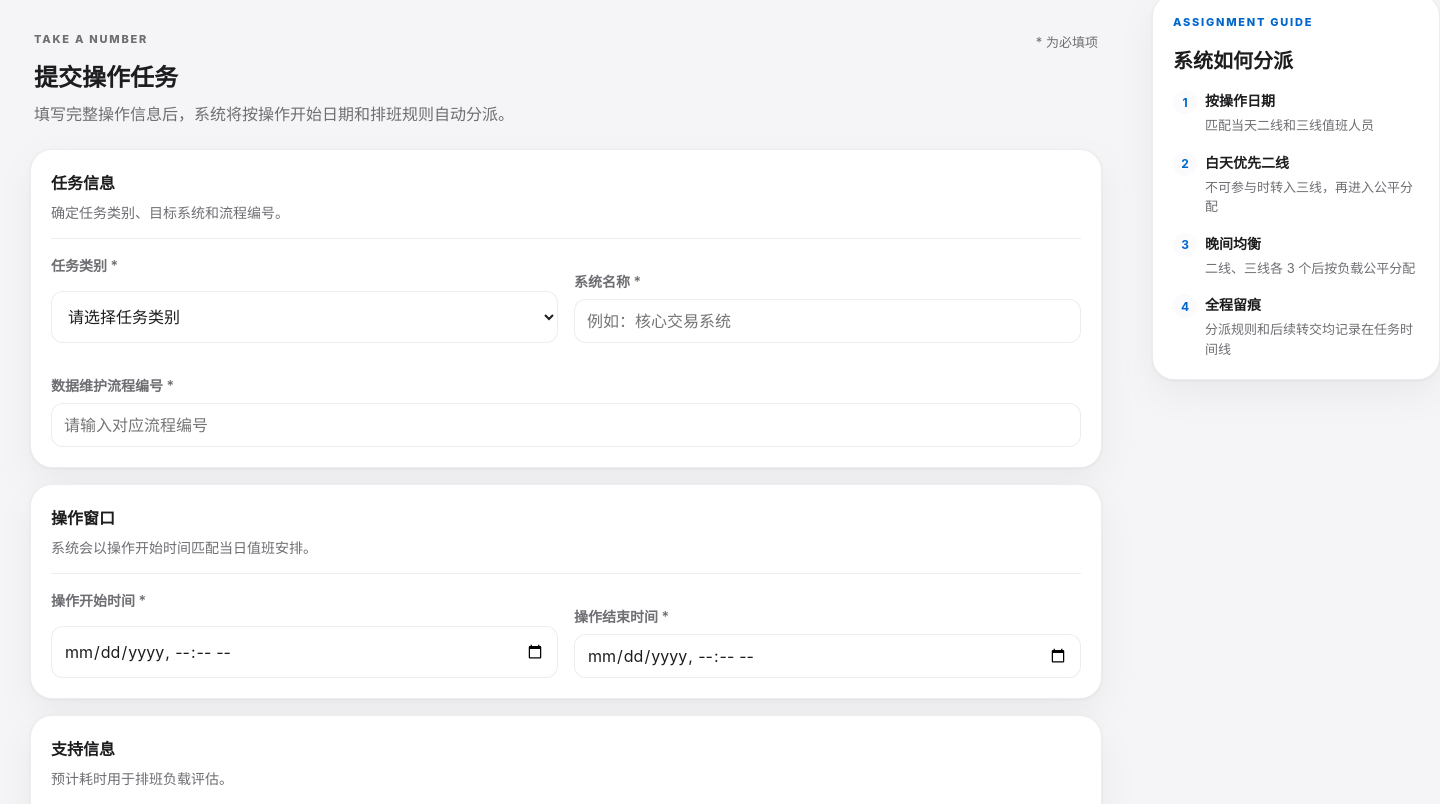
Test: TaskCreatePage › requires a positive estimate
This screenshot has width=1440, height=804.
Step 1. Select "数据维护" in the dropdown with test id "category" → (304, 317), box top-left (51, 291), bottom-right (558, 343)
Step 2. Type "数据平台" into the field with test id "system-name" → (828, 321), box top-left (574, 299), bottom-right (1081, 343)
(page scrolled)
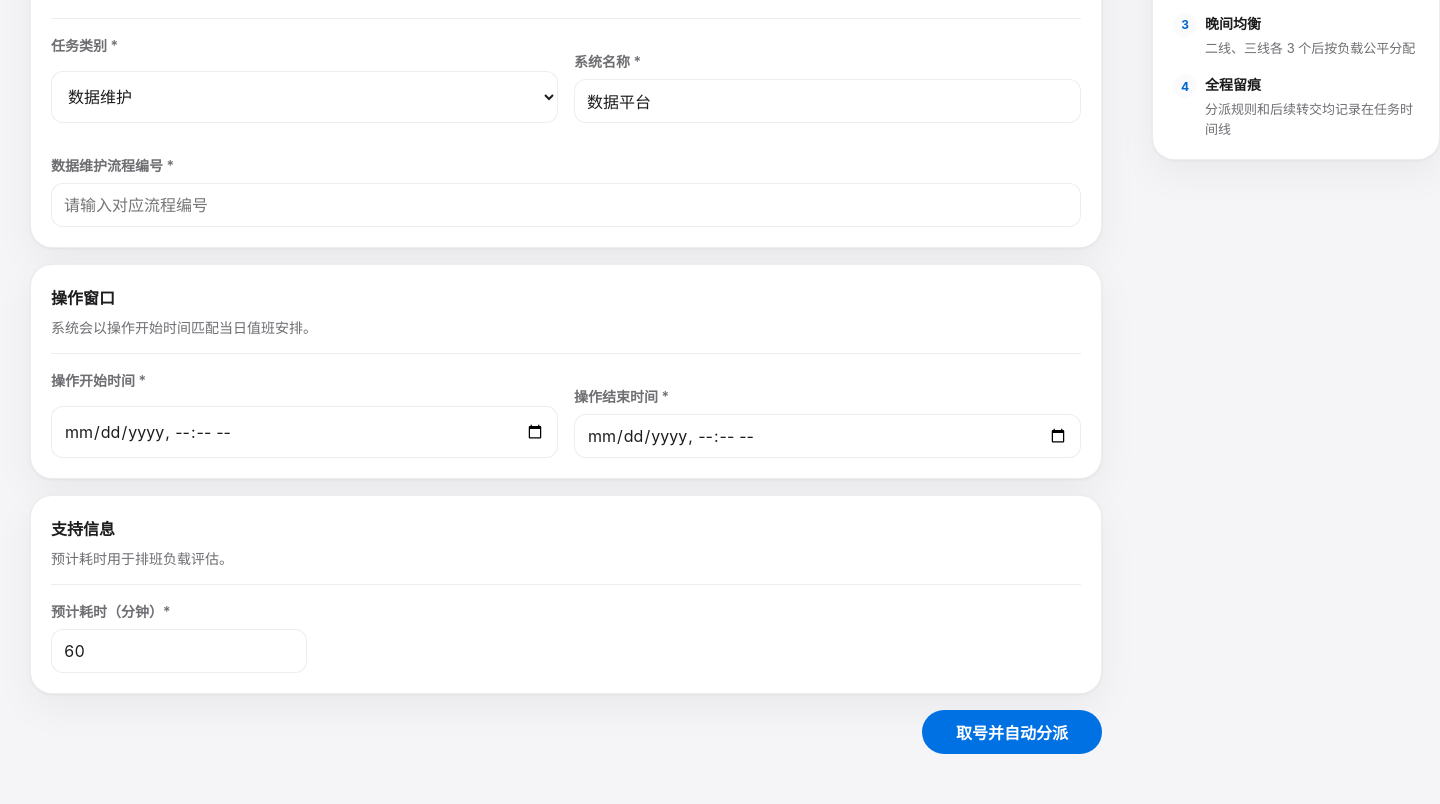
Step 3. Replace the text in the number field with test id "estimated-minutes" with "45" → (179, 651), box top-left (51, 629), bottom-right (307, 673)
Step 4. Type "DATA-2026-001" into the field with test id "process-number" → (566, 205), box top-left (51, 183), bottom-right (1081, 227)
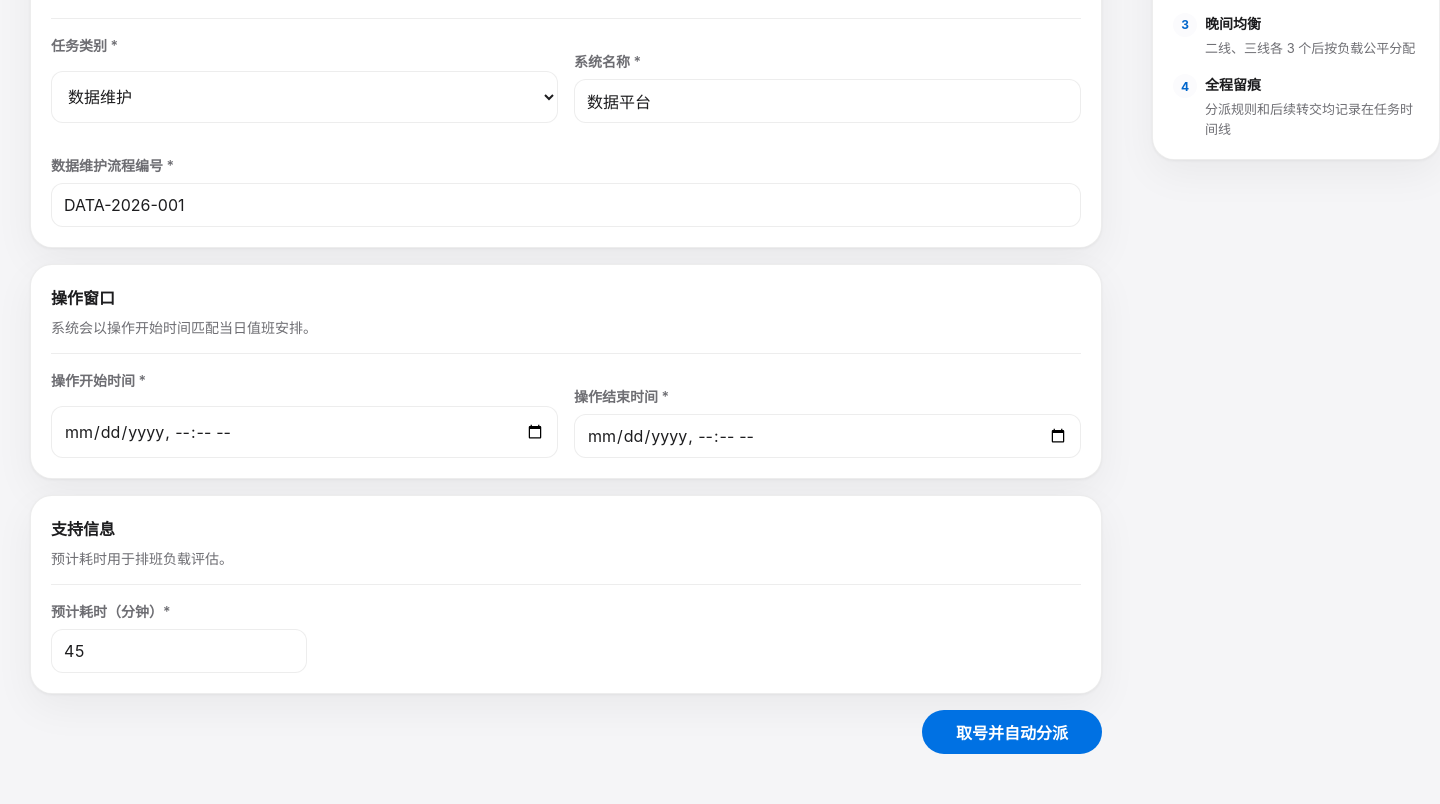
Step 5. Type "2026-07-25T20:00" into the field with test id "operation-start" → (304, 432), box top-left (51, 406), bottom-right (558, 458)
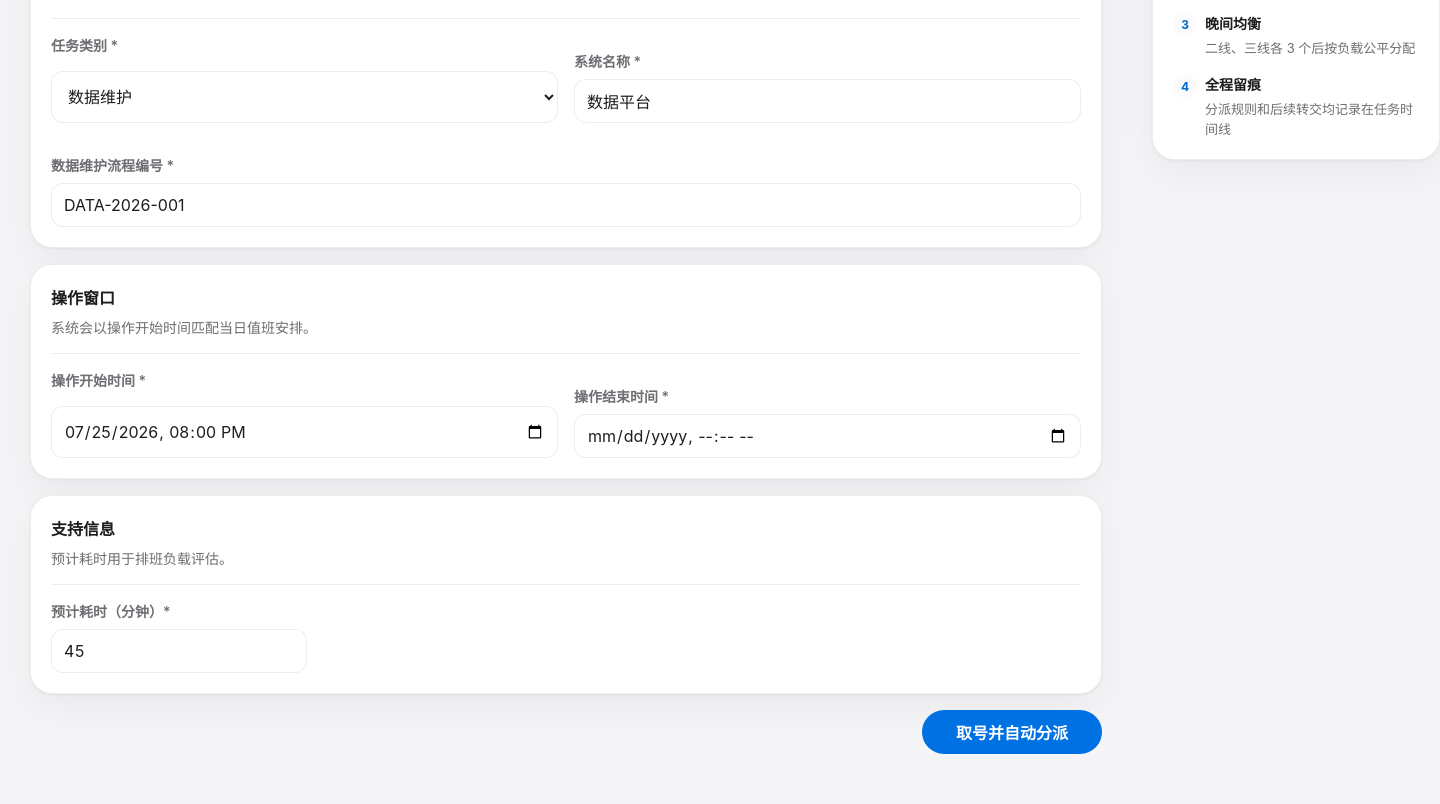
Step 6. Type "2026-07-25T20:45" into the field with test id "operation-end" → (828, 436), box top-left (574, 414), bottom-right (1081, 458)
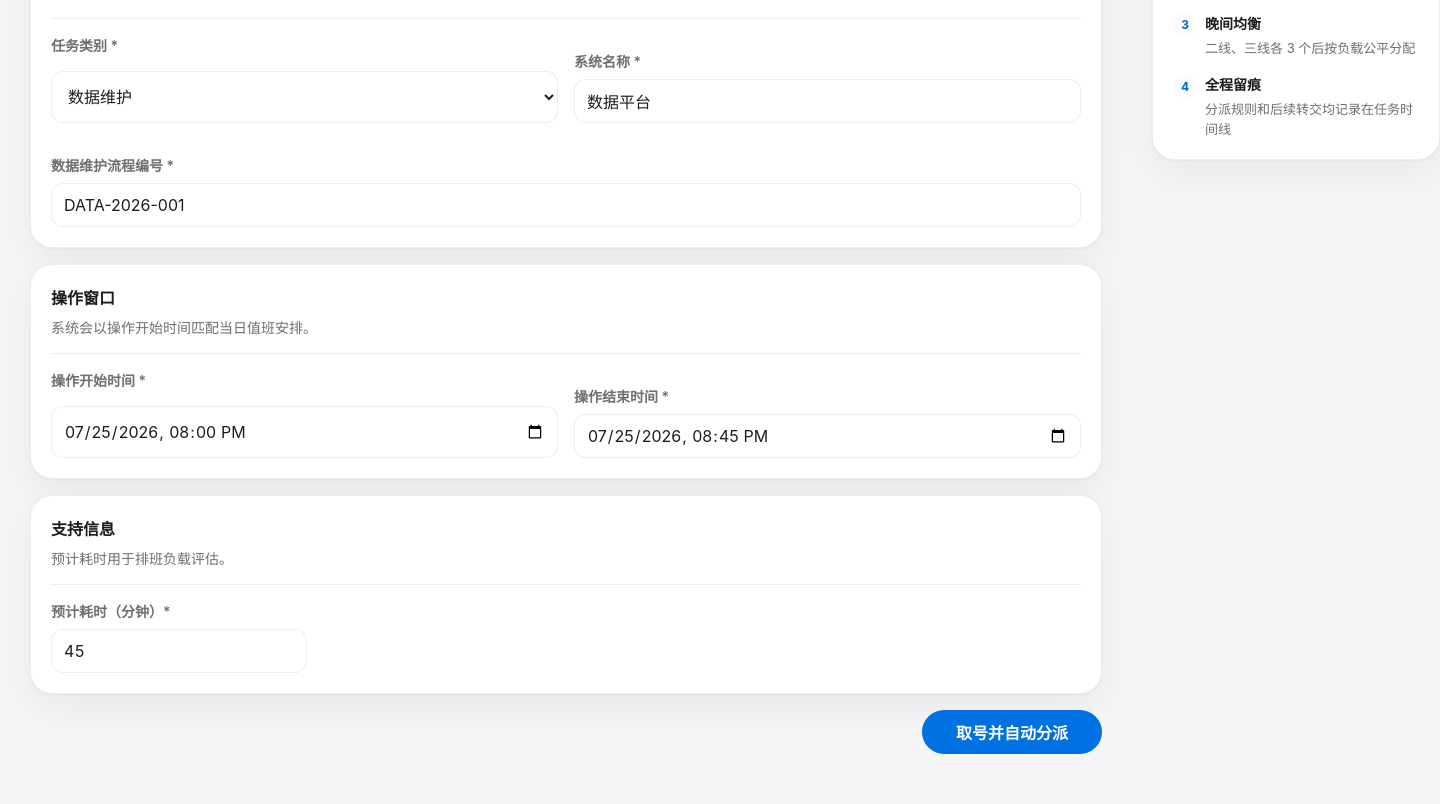
Step 7. Replace the text in the number field with test id "estimated-minutes" with "0" → (179, 651), box top-left (51, 629), bottom-right (307, 673)
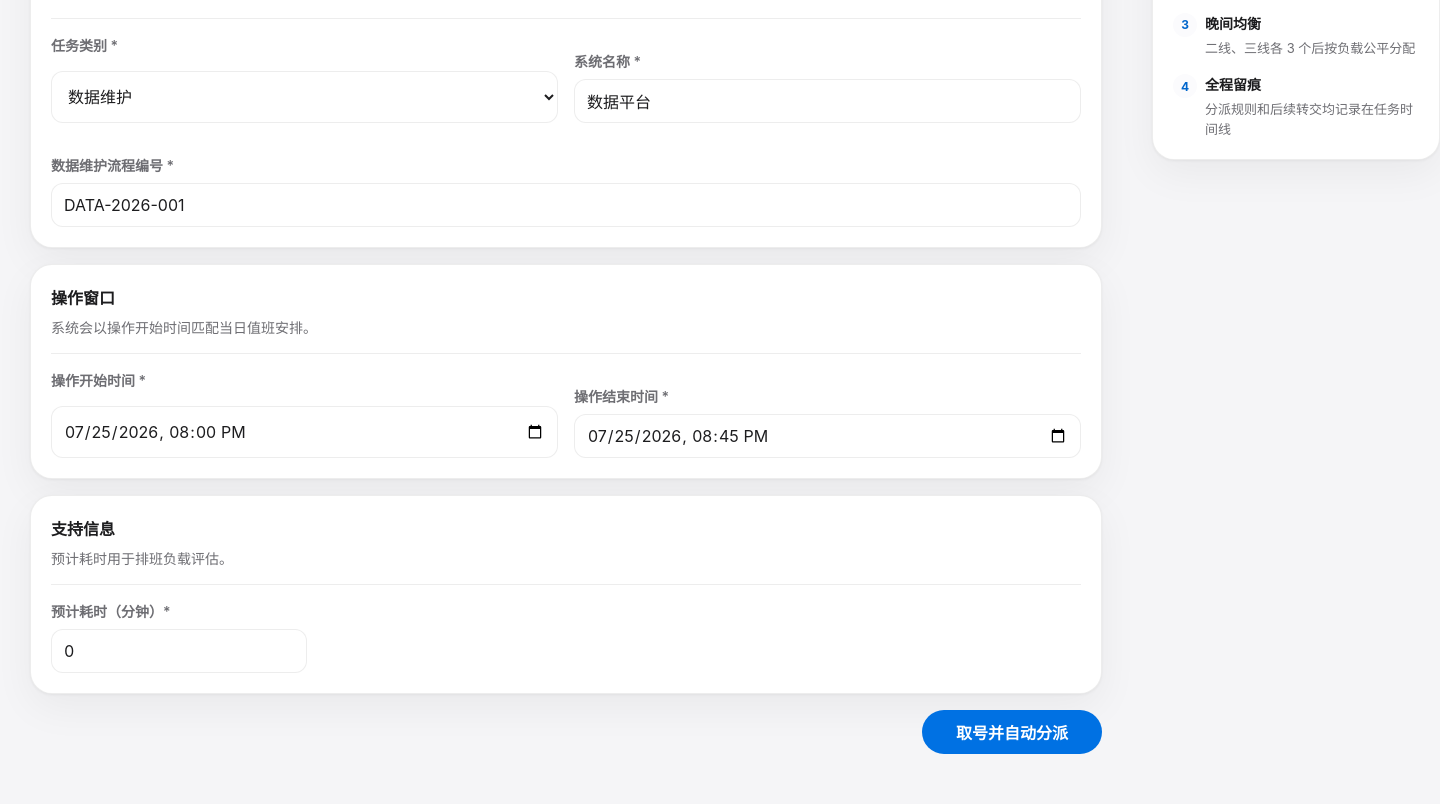
Step 8. Click the button with test id "submit-task" → (1012, 732), box top-left (922, 710), bottom-right (1102, 754)
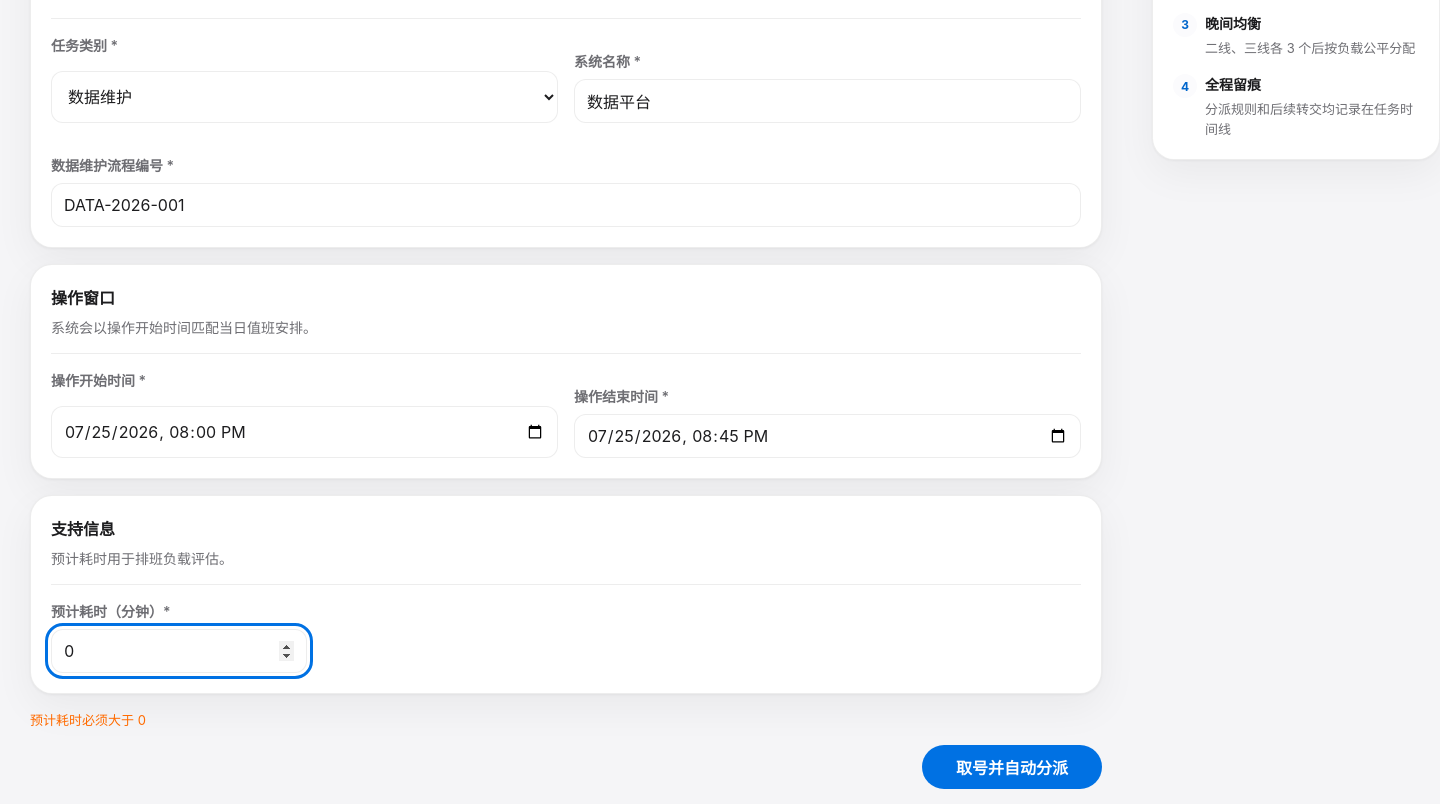
Check: the text "预计耗时必须大于 0" is shown, box top-left (30, 712), bottom-right (146, 728)
